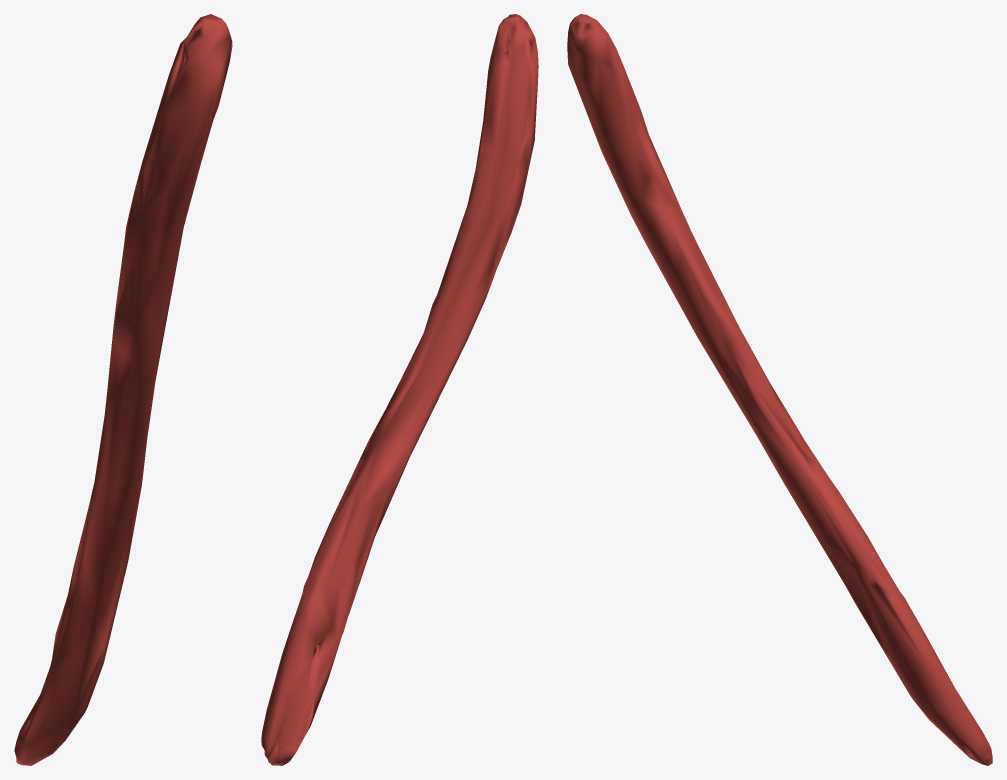
Rendered from musculos-ary-epiglottic-part-of-oblique-arytenoid-muscle-r.glb.
The picture shows the model from 3 angles, left to right: view 1: azimuth 30°, elevation 25°; view 2: azimuth 150°, elevation 25°; view 3: azimuth 270°, elevation 25°; orthographic projection. The views are drawn at different scales.
Parts seen in each view (by area): view 1: Ary-epiglottic part of oblique arytenoid muscle.r; view 2: Ary-epiglottic part of oblique arytenoid muscle.r; view 3: Ary-epiglottic part of oblique arytenoid muscle.r.
Boxes of the visible parts, x1=… form: Ary-epiglottic part of oblique arytenoid muscle.r: x1=14, y1=14, x2=232, y2=765; Ary-epiglottic part of oblique arytenoid muscle.r: x1=261, y1=14, x2=538, y2=765; Ary-epiglottic part of oblique arytenoid muscle.r: x1=567, y1=14, x2=992, y2=765.
Bounding box in the file's own units: 0.00423 × 0.0234 × 0.0126.
